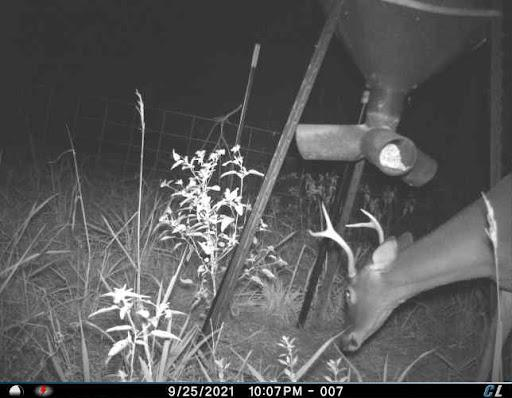Deer: (306, 163, 512, 378)
